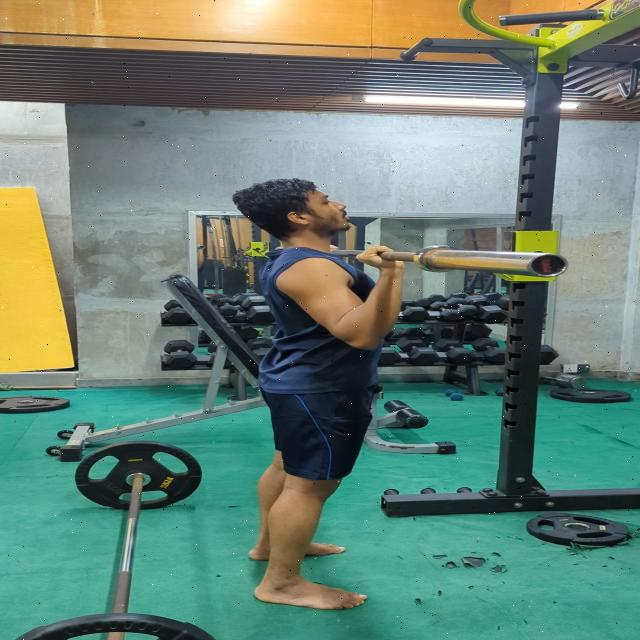Normal_OverheadPress: (202, 165, 438, 625)
